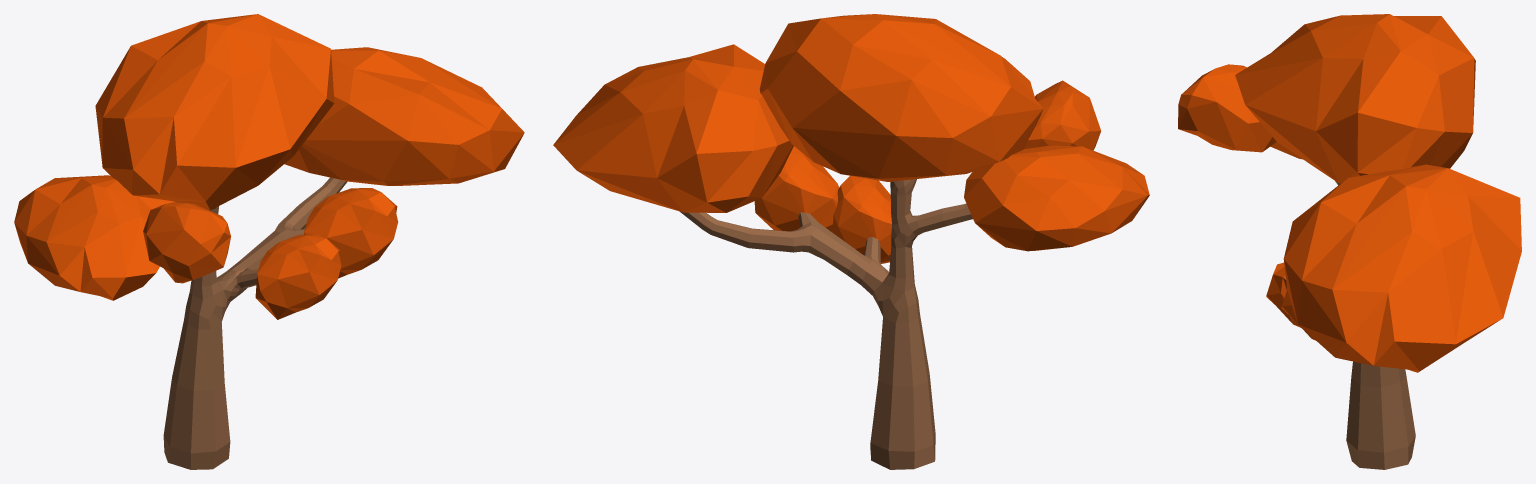
The model's file is tree-autumn-complete-5-009.glb.
3 renders of one model, left to right at view 1: azimuth 30°, elevation 25°; view 2: azimuth 150°, elevation 25°; view 3: azimuth 270°, elevation 25°, orthographic. The views are drawn at different scales.
Parts seen in each view (by area): view 1: TREE 5.003_399, TREE 5.002_400; view 2: TREE 5.003_399, TREE 5.002_400; view 3: TREE 5.003_399, TREE 5.002_400.
Part boxes in pixels (bbox=[...]): TREE 5.003_399: bbox=[14, 14, 524, 319]; TREE 5.002_400: bbox=[163, 177, 347, 469]; TREE 5.003_399: bbox=[553, 14, 1149, 263]; TREE 5.002_400: bbox=[679, 179, 972, 469]; TREE 5.003_399: bbox=[1178, 14, 1521, 372]; TREE 5.002_400: bbox=[1335, 181, 1415, 469].
Size of the model in its own units: 1.99 by 1.63 by 1.12.
